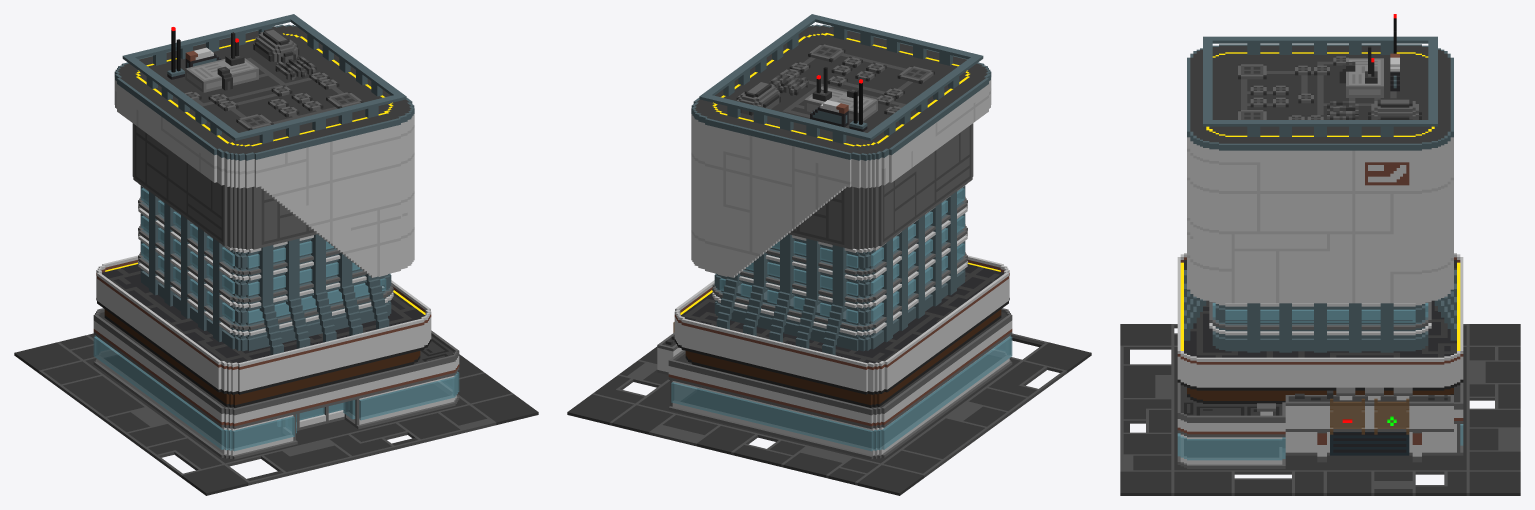
File: industry.glb
The picture shows the model from 3 angles, left to right: view 1: azimuth 30°, elevation 25°; view 2: azimuth 150°, elevation 25°; view 3: azimuth 270°, elevation 25°; orthographic projection. The views are drawn at different scales.
Visible parts, largest first — view 1: Object_2; view 2: Object_2; view 3: Object_2.
Part boxes in pixels (box(x1,y1,x2,y2)): Object_2: box(14, 14, 538, 495); Object_2: box(567, 14, 1091, 495); Object_2: box(1120, 14, 1520, 495).
Size of the model in its own units: 12.6 by 12.6 by 12.6.
1 material, 1 textured.
